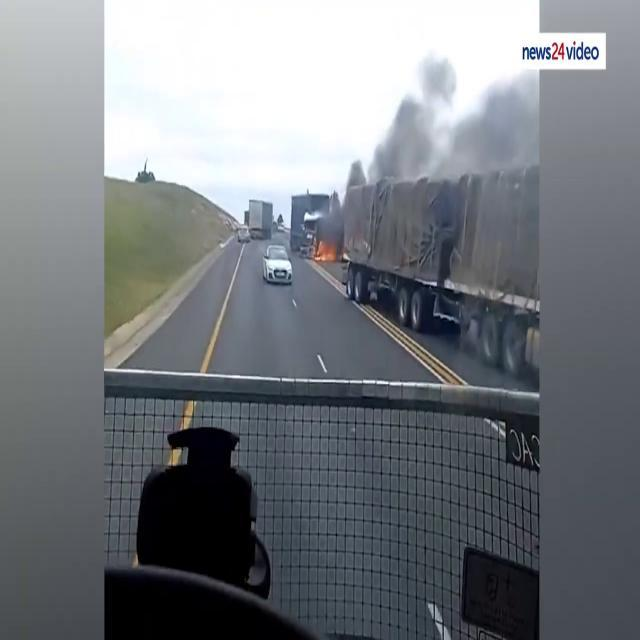Fire: (312, 234, 336, 264)
Smoke: (334, 24, 534, 248)
